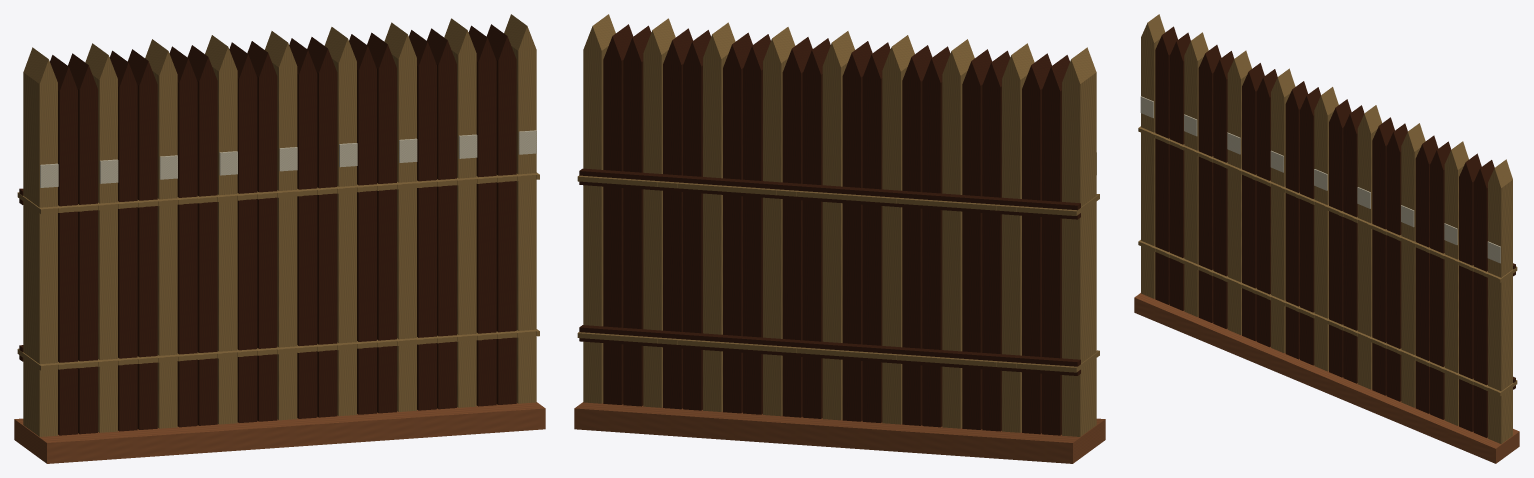
File: Berber_Palisade_Age1_slope_down_6m.fbx
3 renders of one model, left to right at view 1: azimuth 30°, elevation 25°; view 2: azimuth 150°, elevation 25°; view 3: azimuth 330°, elevation 25°, orthographic. The views are drawn at different scales.
Parts seen in each view (by area): view 1: palm_split_post.062, palm_split_post.057, palm_split_post.055, palm_split_post.059, palm_split_post.052, earth_seat.008, palm_split_post.064, palm_split_post.061, palm_split_post.058, front_lashing.008, neutral_owner_painted_stripe.008, lashing_side.008; view 2: palm_split_post.057, palm_split_post.062, palm_split_post.055, palm_split_post.059, palm_split_post.052, earth_seat.008, palm_split_post.064, palm_split_post.061, palm_split_post.058, continuous_rear_tie.008, back_lashing.008, lashing_side.008; view 3: palm_split_post.059, palm_split_post.055, palm_split_post.057, palm_split_post.062, palm_split_post.052, earth_seat.008, palm_split_post.058, palm_split_post.061, palm_split_post.064, front_lashing.008, neutral_owner_painted_stripe.008, lashing_side.008.
Part boxes in pixels (<box>): palm_split_post.062: <box>169,24,516,427</box>; palm_split_post.057: <box>68,25,496,434</box>; palm_split_post.055: <box>50,32,396,435</box>; palm_split_post.059: <box>109,28,456,431</box>; palm_split_post.052: <box>23,14,536,436</box>; earth_seat.008: <box>14,402,545,463</box>; palm_split_post.064: <box>205,18,476,424</box>; palm_split_post.061: <box>145,22,416,428</box>; palm_split_post.058: <box>85,27,356,432</box>; front_lashing.008: <box>40,173,538,370</box>; neutral_owner_painted_stripe.008: <box>40,130,536,187</box>; lashing_side.008: <box>17,172,539,370</box>; palm_split_post.057: <box>623,25,1051,434</box>; palm_split_post.062: <box>603,24,950,427</box>; palm_split_post.055: <box>723,32,1069,435</box>; palm_split_post.059: <box>663,28,1010,431</box>; palm_split_post.052: <box>583,14,1096,436</box>; earth_seat.008: <box>574,402,1105,463</box>; palm_split_post.064: <box>643,18,914,424</box>; palm_split_post.061: <box>703,22,974,428</box>; palm_split_post.058: <box>763,27,1034,432</box>; continuous_rear_tie.008: <box>579,168,1080,375</box>; back_lashing.008: <box>578,175,1076,372</box>; lashing_side.008: <box>577,175,1099,372</box>; palm_split_post.059: <box>1198,45,1451,419</box>; palm_split_post.055: <box>1155,26,1407,401</box>; palm_split_post.057: <box>1169,32,1481,431</box>; palm_split_post.062: <box>1242,63,1494,437</box>; palm_split_post.052: <box>1141,14,1512,443</box>; earth_seat.008: <box>1134,293,1519,463</box>; palm_split_post.058: <box>1184,32,1381,389</box>; palm_split_post.061: <box>1227,50,1425,407</box>; palm_split_post.064: <box>1271,68,1468,425</box>; front_lashing.008: <box>1139,127,1501,394</box>; neutral_owner_painted_stripe.008: <box>1140,96,1500,263</box>; lashing_side.008: <box>1138,126,1517,396</box>.
Size of the model in its own units: 601 by 556 by 68.29.
4 materials, 4 textured.
